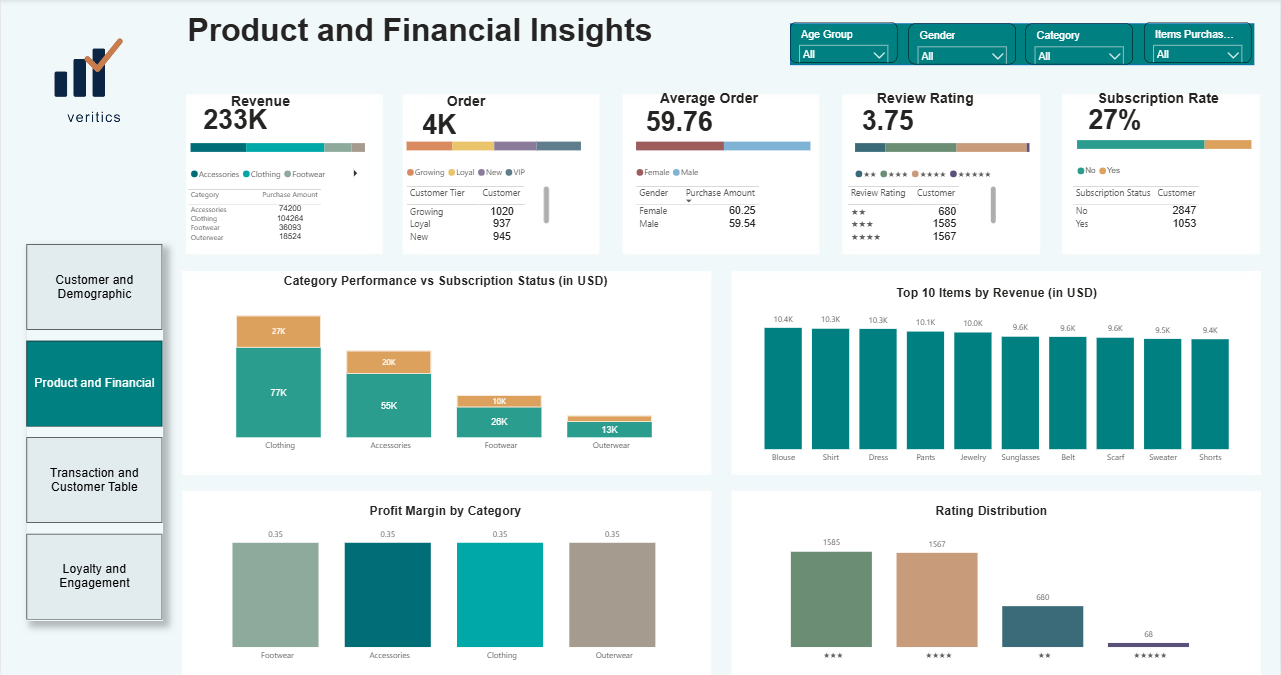

The page's visual inventory and layout, read from the dashboard file:
{"tool":"powerbi","page":{"name":"Product and Financial","canvas":[1920,1020],"ordinal":1},"visuals":[{"type":"columnChart","title":"Category Performance vs Subscription Status (in USD)","fields":{"Category":["Orders.category"],"Y":["DAX.Total Revenue"],"Series":["Orders.subscription_status"]},"box":[282.5,415,772.5,275],"z":0},{"type":"columnChart","title":"Top 10 Items by Revenue (in USD)","fields":{"Category":["Orders.item_purchased"],"Y":["Sum(Orders.purchase_amount)"]},"box":[1112.9,431.5,765.4,274.8],"z":1000},{"type":"clusteredColumnChart","title":"Profit Margin by Category","fields":{"Category":["Orders.category"],"Y":["DAX.ProfitMargin"]},"box":[274.8,758.6,785.9,245.3],"z":2000},{"type":"clusteredColumnChart","title":"Rating Distribution","fields":{"Category":["Orders.review_rating_stars"],"Y":["CountNonNull(Orders.customer_id)"]},"box":[1117.5,758.6,740.4,245.3],"z":3000},{"type":"textbox","box":[274.8,15.9,754.1,72.7],"z":4000},{"type":"image","box":[22.7,15.9,236.2,202.1],"z":5000},{"type":"cardVisual","fields":{"Data":["DAX.Total Revenue"]},"box":[274.8,134,168.1,95.4],"z":7000},{"type":"cardVisual","fields":{"Data":["DAX.Total Orders"]},"box":[604.2,136.3,163.5,106.8],"z":8000},{"type":"cardVisual","fields":{"Data":["DAX.Avg Order Value"]},"box":[940.3,136.3,177.2,95.4],"z":9000},{"type":"cardVisual","fields":{"Data":["DAX.Avg Review Rating"]},"box":[1265.1,138.5,136.3,90.9],"z":10000},{"type":"cardVisual","fields":{"Data":["DAX.Subscription Rate %"]},"box":[1603.5,134,143.1,95.4],"z":11000},{"type":"textbox","box":[274.9,137.5,229.8,56.3],"z":12000},{"type":"hundredPercentStackedBarChart","fields":{"Y":["Sum(Orders.purchase_amount)"],"Series":["Orders.category"]},"box":[279.4,186.2,272.6,95.4],"z":13000},{"type":"pivotTable","fields":{"Rows":["Orders.category"],"Values":["Sum(Orders.purchase_amount)"]},"box":[274.8,281.6,229.4,90.9],"z":14000},{"type":"hundredPercentStackedBarChart","fields":{"Series":["Orders.customer_value_tier"],"Y":["CountNonNull(Orders.customer_id)"]},"box":[604.2,184,272.6,95.4],"z":15000},{"type":"pivotTable","fields":{"Rows":["Orders.customer_value_tier"],"Values":["CountNonNull(Orders.customer_id)"]},"box":[604.2,277.1,224.9,90.9],"z":16000},{"type":"textbox","box":[585.9,137.5,225.3,56.3],"z":17000},{"type":"hundredPercentStackedBarChart","fields":{"Y":["Avg(Orders.purchase_amount)"],"Series":["Orders.gender"]},"box":[949.4,184,272.6,95.4],"z":18000},{"type":"pivotTable","fields":{"Rows":["Orders.gender"],"Values":["Avg(Orders.purchase_amount)"]},"box":[949.4,277.1,211.2,90.9],"z":19000},{"type":"hundredPercentStackedBarChart","fields":{"Series":["Orders.review_rating_stars"],"Y":["CountNonNull(Orders.customer_id)"]},"box":[1278.7,186.2,272.6,95.4],"z":20000},{"type":"pivotTable","fields":{"Rows":["Orders.review_rating_stars"],"Values":["CountNonNull(Orders.customer_id)"]},"box":[1267.4,277.1,233.9,90.9],"z":21000},{"type":"hundredPercentStackedBarChart","fields":{"Y":["CountNonNull(Orders.customer_id)"],"Series":["Orders.subscription_status"]},"box":[1610.4,181.7,272.6,95.4],"z":22000},{"type":"pivotTable","fields":{"Rows":["Orders.subscription_status"],"Values":["CountNonNull(Orders.customer_id)"]},"box":[1603.5,277.1,224.9,90.9],"z":23000},{"type":"textbox","box":[905.9,132.9,315.5,60.8],"z":24000},{"type":"textbox","box":[1275.4,132.9,232.1,60.8],"z":25000},{"type":"textbox","box":[1541.3,132.9,329,60.8],"z":26000},{"type":"shape","box":[1185,37.5,697.5,62.5],"z":27000},{"type":"slicer","fields":{"Values":["Orders.age_group"]},"box":[1185.6,36.3,161,61.3],"z":28000},{"type":"slicer","fields":{"Values":["Orders.gender"]},"box":[1362.7,38.6,161.3,61.3],"z":29000},{"type":"slicer","fields":{"Values":["Orders.category"]},"box":[1540,38.6,161,61.3],"z":30000},{"type":"slicer","fields":{"Values":["Orders.item_purchased"]},"box":[1717.1,36.3,161,61.3],"z":31000},{"type":"pageNavigator","box":[38.6,369.3,205,566.2],"z":31001}]}

Visuals, with their boxes in screenshot pixels (x1, y1, x2, y2), scaled from the page's 1920x1020 canvas onto the 1281x675 screenshot:
"Category Performance vs Subscription Status (in USD)" columnChart: crop(188, 275, 704, 457)
"Top 10 Items by Revenue (in USD)" columnChart: crop(743, 286, 1253, 467)
"Profit Margin by Category" clusteredColumnChart: crop(183, 502, 708, 664)
"Rating Distribution" clusteredColumnChart: crop(746, 502, 1240, 664)
textbox: crop(183, 11, 686, 59)
image: crop(15, 11, 173, 144)
cardVisual - DAX.Total Revenue: crop(183, 89, 295, 152)
cardVisual - DAX.Total Orders: crop(403, 90, 512, 161)
cardVisual - DAX.Avg Order Value: crop(627, 90, 746, 153)
cardVisual - DAX.Avg Review Rating: crop(844, 92, 935, 152)
cardVisual - DAX.Subscription Rate %: crop(1070, 89, 1165, 152)
textbox: crop(183, 91, 337, 128)
hundredPercentStackedBarChart - Sum(Orders.purchase_amount) x Orders.category: crop(186, 123, 368, 186)
pivotTable - Orders.category x Sum(Orders.purchase_amount): crop(183, 186, 336, 247)
hundredPercentStackedBarChart - Orders.customer_value_tier x CountNonNull(Orders.customer_id): crop(403, 122, 585, 185)
pivotTable - Orders.customer_value_tier x CountNonNull(Orders.customer_id): crop(403, 183, 553, 244)
textbox: crop(391, 91, 541, 128)
hundredPercentStackedBarChart - Avg(Orders.purchase_amount) x Orders.gender: crop(633, 122, 815, 185)
pivotTable - Orders.gender x Avg(Orders.purchase_amount): crop(633, 183, 774, 244)
hundredPercentStackedBarChart - Orders.review_rating_stars x CountNonNull(Orders.customer_id): crop(853, 123, 1035, 186)
pivotTable - Orders.review_rating_stars x CountNonNull(Orders.customer_id): crop(846, 183, 1002, 244)
hundredPercentStackedBarChart - CountNonNull(Orders.customer_id) x Orders.subscription_status: crop(1074, 120, 1256, 183)
pivotTable - Orders.subscription_status x CountNonNull(Orders.customer_id): crop(1070, 183, 1220, 244)
textbox: crop(604, 88, 815, 128)
textbox: crop(851, 88, 1006, 128)
textbox: crop(1028, 88, 1248, 128)
shape: crop(791, 25, 1256, 66)
slicer - Orders.age_group: crop(791, 24, 898, 65)
slicer - Orders.gender: crop(909, 26, 1017, 66)
slicer - Orders.category: crop(1027, 26, 1135, 66)
slicer - Orders.item_purchased: crop(1146, 24, 1253, 65)
pageNavigator: crop(26, 244, 163, 619)
